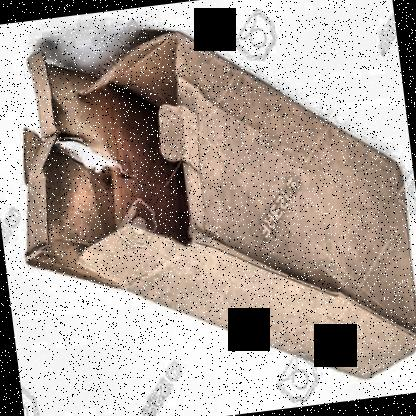defect parcel: (0, 11, 239, 361)
